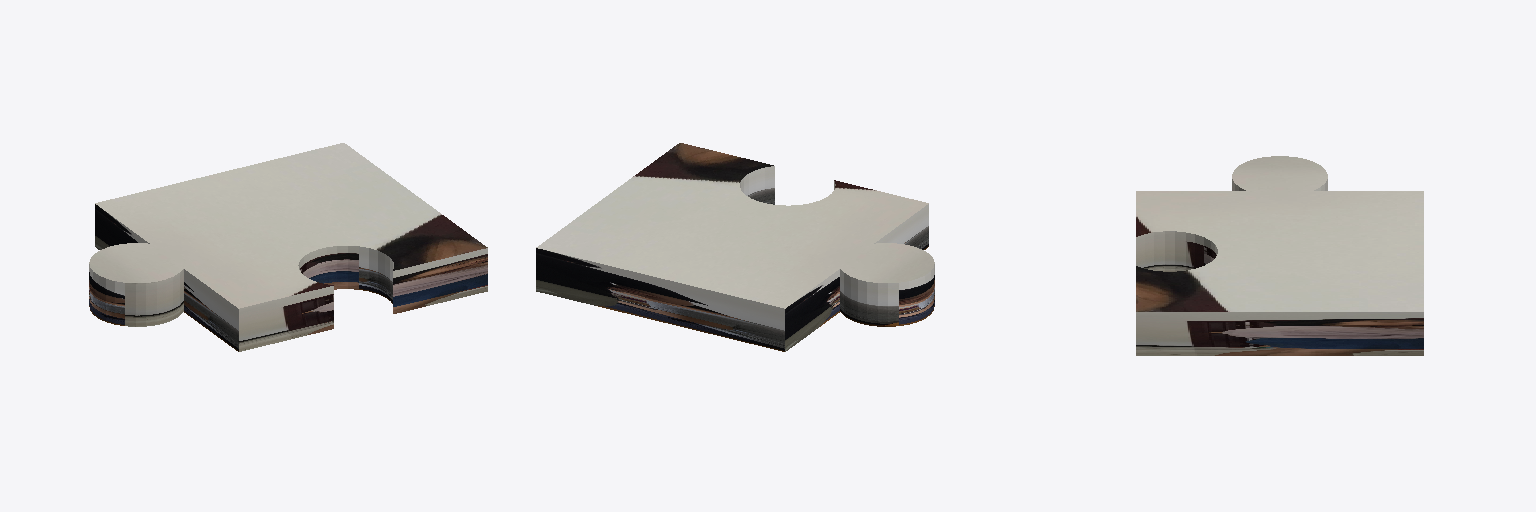
3 views of the same model, side by side, from view 1: azimuth 30°, elevation 25°; view 2: azimuth 150°, elevation 25°; view 3: azimuth 270°, elevation 25° (orthographic).
Visible parts, largest first — view 1: ͼ��021; view 2: ͼ��021; view 3: ͼ��021.
Boxes of the visible parts, x1,y1,x2,y2 form: ͼ��021: [89, 143, 487, 351]; ͼ��021: [536, 143, 934, 351]; ͼ��021: [1136, 156, 1423, 355].
Bounding box in the file's own units: 38.5 × 5 × 30.
1 materials, 1 textured.